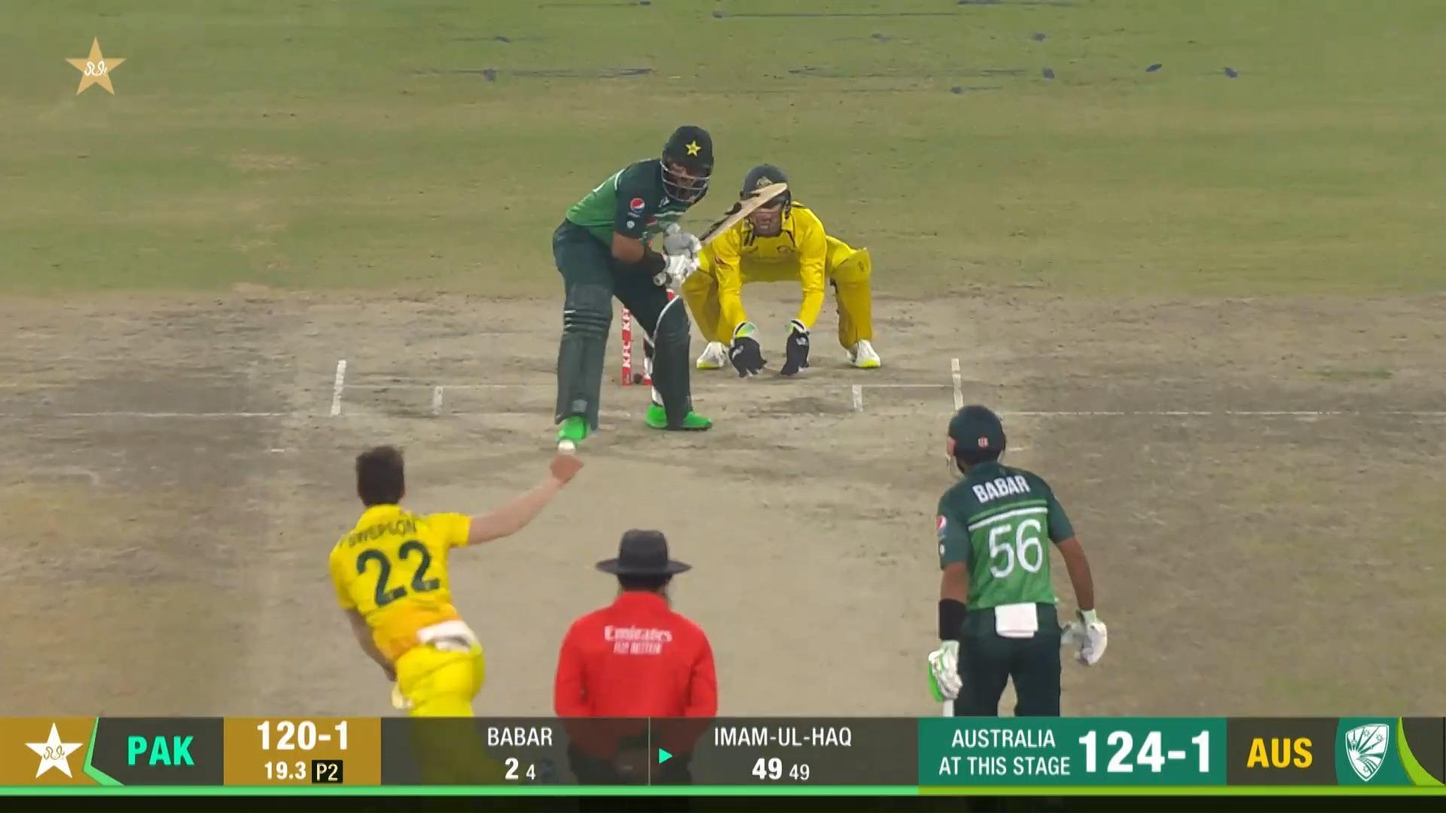BM 1: (552, 122, 790, 447)
BO: (324, 443, 587, 813)
